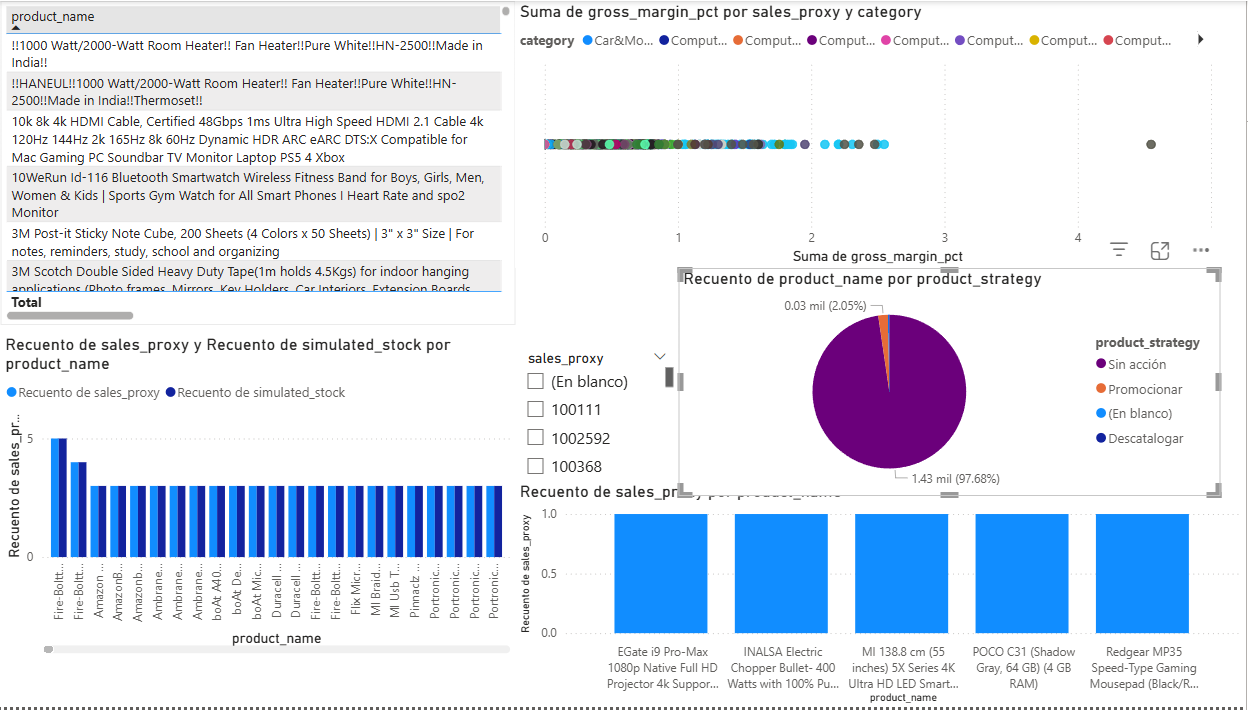

What the dashboard file says about the page in this screenshot:
{"tool":"powerbi","page":{"name":"Página 1","canvas":[1280,720],"ordinal":0},"visuals":[{"type":"tableEx","fields":{"Values":["amazon.product_name","amazon.category","Sum(amazon.discounted_price_num)","Sum(amazon.actual_price_num)","Sum(amazon.gross_margin_pct)","Sum(amazon.rating)","Sum(amazon.rating_count)","amazon.sales_proxy","amazon.is_discounted"]},"box":[10.7,0,524.3,330.2],"z":0},{"type":"clusteredColumnChart","fields":{"Category":["amazon.product_name"],"Y":["CountNonNull(amazon.sales_proxy)","CountNonNull(amazon.simulated_stock)"]},"box":[11,340,524,330],"z":1000},{"type":"slicer","fields":{"Values":["amazon.sales_proxy"]},"box":[535,350.1,166.6,139.1],"z":2000},{"type":"scatterChart","fields":{"Category":["amazon.sales_proxy"],"Series":["amazon.category"],"X":["Sum(amazon.gross_margin_pct)"]},"box":[535,0,718.5,272.1],"z":3000},{"type":"clusteredColumnChart","fields":{"Category":["amazon.product_name"],"Y":["CountNonNull(amazon.sales_proxy)"]},"box":[535,489.2,744.5,230.8],"z":4000},{"type":"clusteredColumnChart","fields":{"Category":["amazon.product_strategy"],"Y":["CountNonNull(amazon.product_name)"]},"box":[702,350,551,150],"z":4001}]}

Visuals, with their boxes in screenshot pixels (x1, y1, x2, y2), scaled from the page's 1280x720 canvas onto the 1248x710 screenshot:
tableEx - amazon.product_name x amazon.category: {"left": 10, "top": 0, "right": 522, "bottom": 326}
clusteredColumnChart - amazon.product_name x CountNonNull(amazon.sales_proxy): {"left": 11, "top": 335, "right": 522, "bottom": 661}
slicer - amazon.sales_proxy: {"left": 522, "top": 345, "right": 684, "bottom": 482}
scatterChart - amazon.sales_proxy x amazon.category: {"left": 522, "top": 0, "right": 1222, "bottom": 268}
clusteredColumnChart - amazon.product_name x CountNonNull(amazon.sales_proxy): {"left": 522, "top": 482, "right": 1247, "bottom": 709}
clusteredColumnChart - amazon.product_strategy x CountNonNull(amazon.product_name): {"left": 684, "top": 345, "right": 1222, "bottom": 493}
